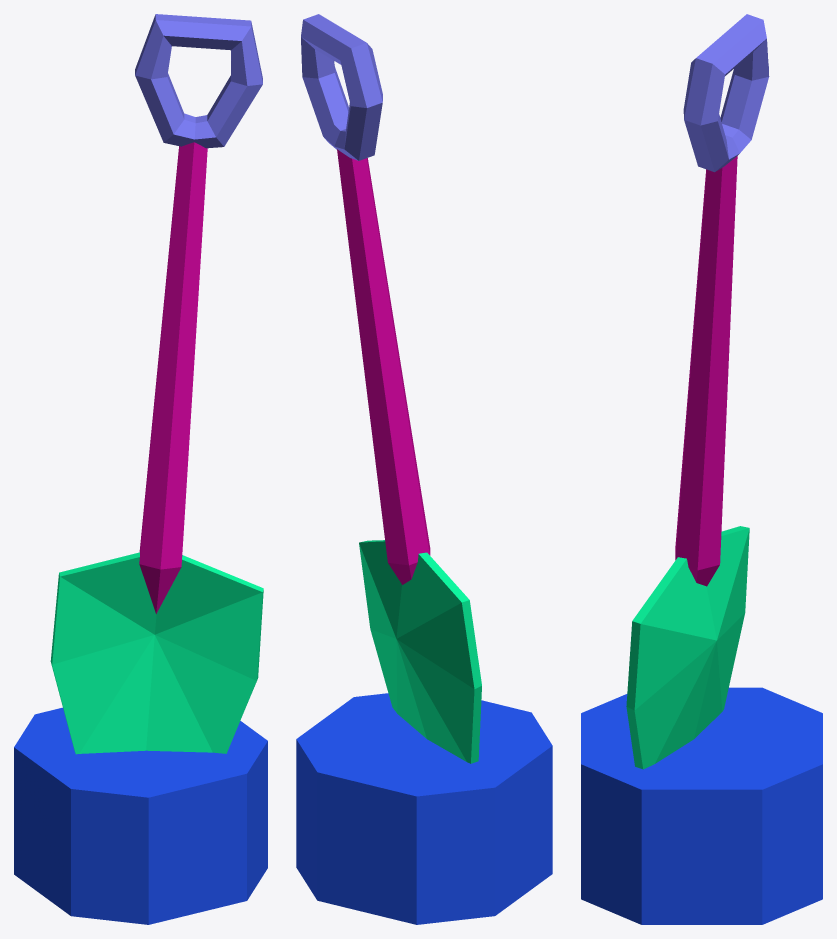
The model's file is 070_Shovel.fbx.
The picture shows the model from 3 angles, left to right: view 1: azimuth 30°, elevation 25°; view 2: azimuth 150°, elevation 25°; view 3: azimuth 270°, elevation 25°; orthographic projection. The views are drawn at different scales.
Parts seen in each view (by area): view 1: Shovel; view 2: Shovel; view 3: Shovel.
Boxes of the visible parts, x1,y1,x2,y2 form: Shovel: (14, 14, 267, 924); Shovel: (296, 14, 552, 924); Shovel: (581, 14, 822, 924).
Bounding box in the file's own units: 27.89 × 100 × 25.
